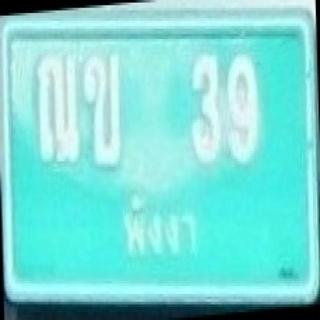A02: (82, 51, 131, 171)
A19: (30, 51, 83, 167)
N03: (182, 48, 224, 171)
N09: (223, 48, 268, 169)
P40: (118, 190, 204, 262)
